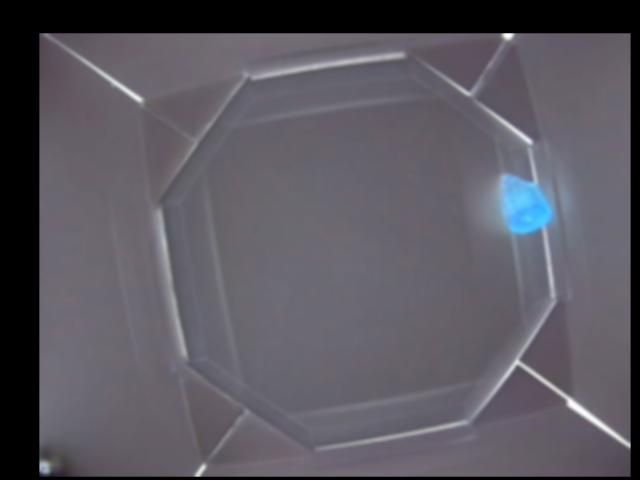Carrot: (499, 171, 552, 232)
